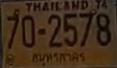0: (22, 15, 34, 47)
2: (48, 14, 61, 46)
5: (63, 13, 77, 46)
7: (78, 12, 94, 46), (6, 12, 19, 48)
8: (96, 12, 110, 45)
SKN: (28, 50, 87, 66)
